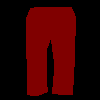pantaloni: (26, 6, 76, 96)
